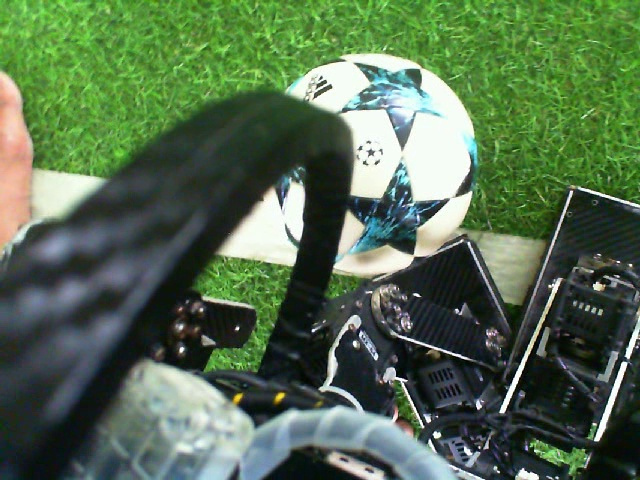ball: (320, 51, 481, 283)
